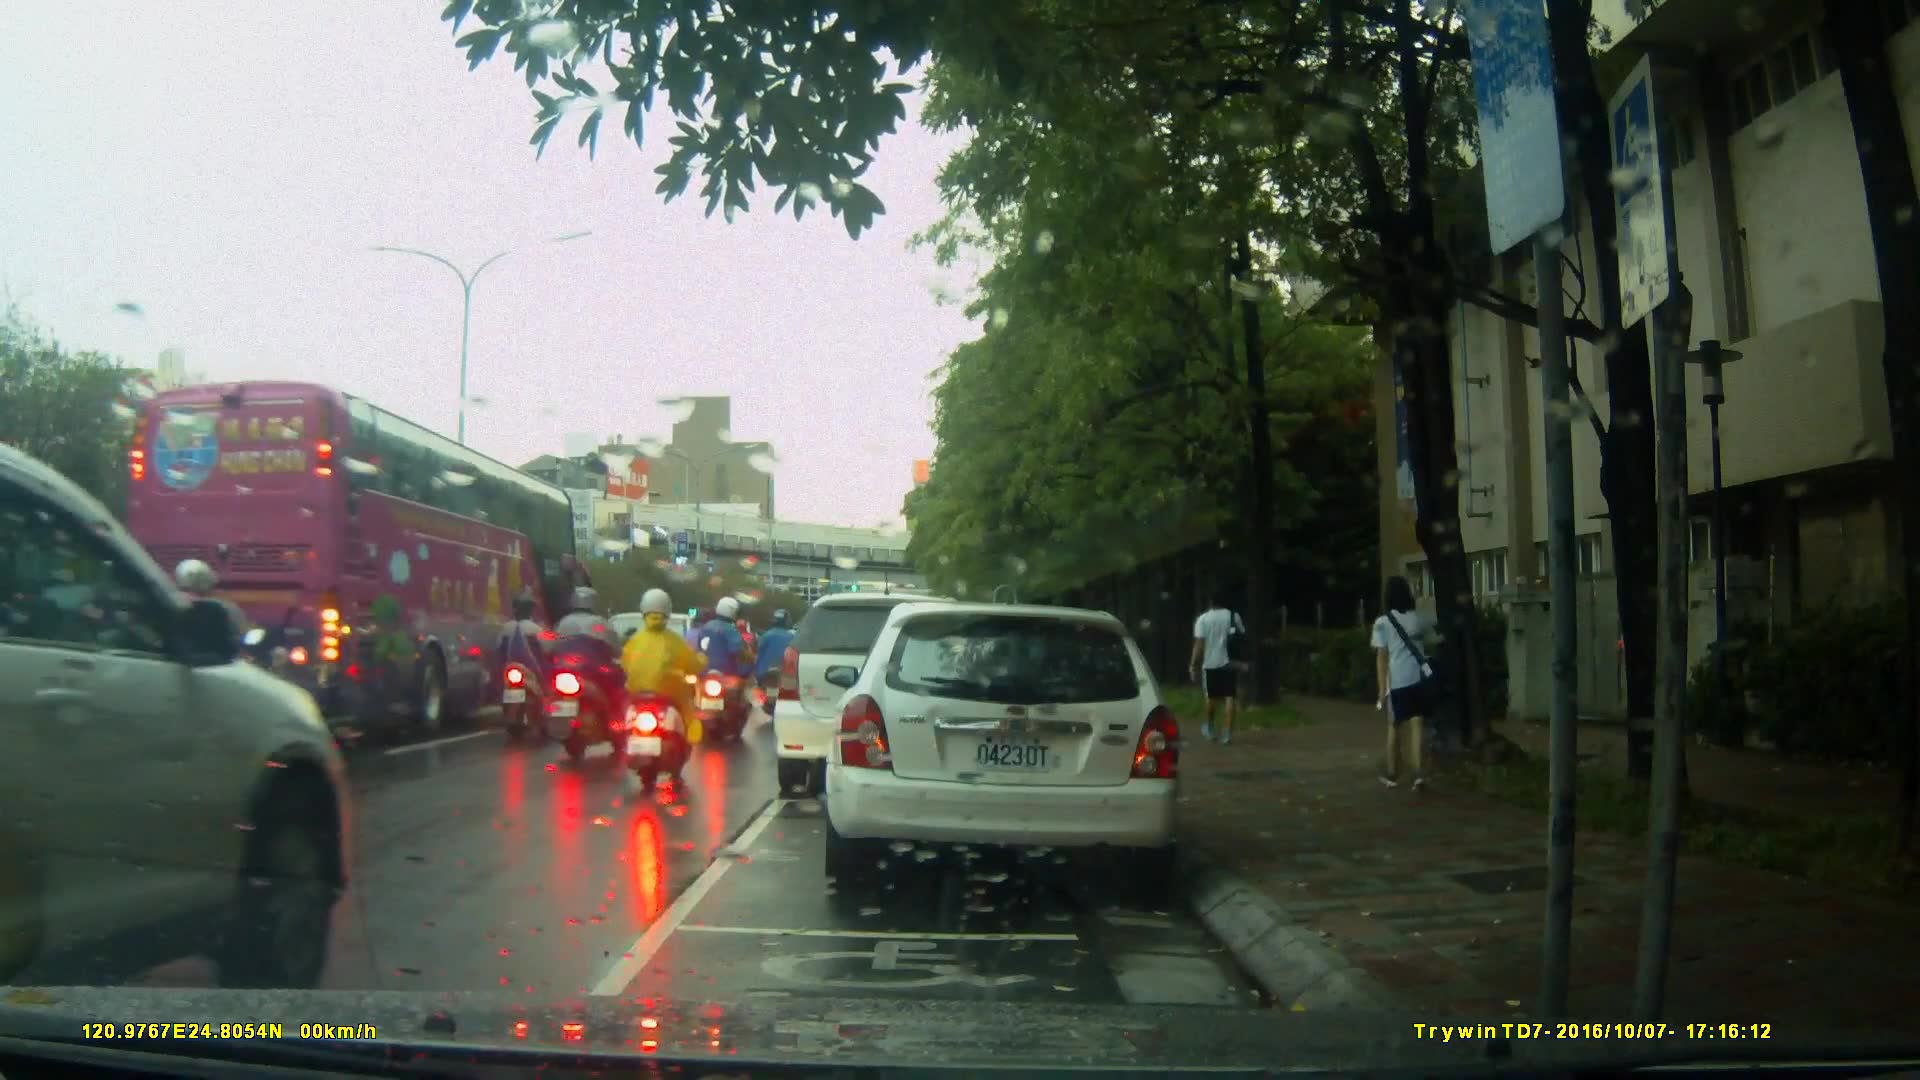pedestrian: (1358, 575, 1444, 800), (1178, 581, 1240, 749)
rider: (123, 556, 268, 813), (628, 592, 709, 796), (552, 582, 626, 762), (692, 595, 754, 755), (499, 593, 557, 743), (754, 608, 815, 731), (685, 598, 731, 714), (722, 617, 761, 694)
vehicle: (1, 435, 361, 987), (118, 376, 583, 737), (835, 594, 1194, 898), (776, 590, 1026, 784), (586, 610, 727, 729)
